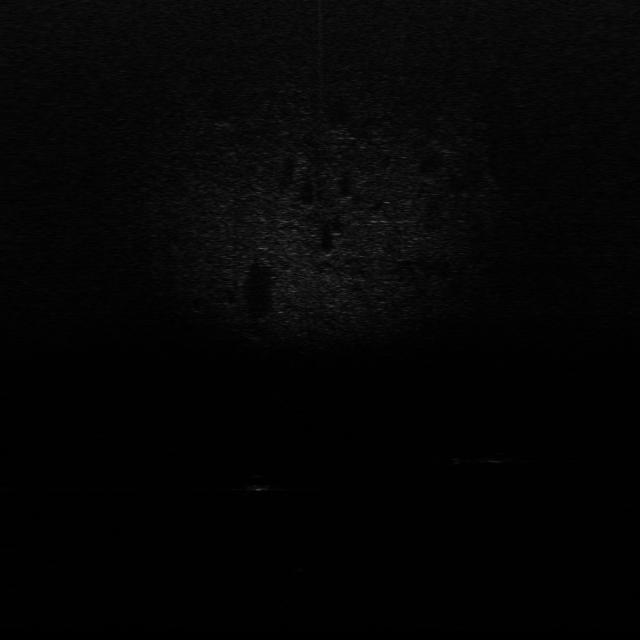ball: (246, 472, 272, 496)
human body: (440, 449, 520, 467)
